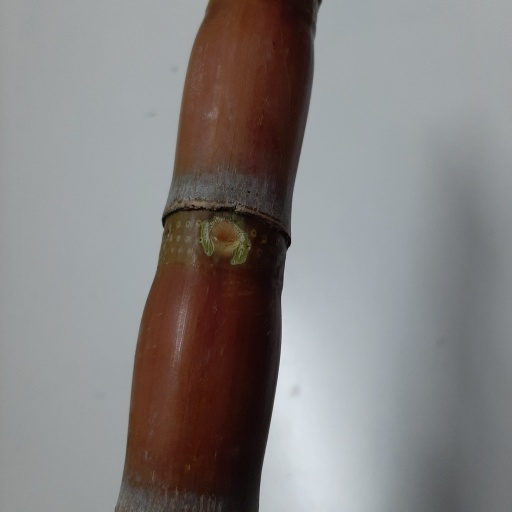Damage_Bud: (207, 218, 240, 250)
